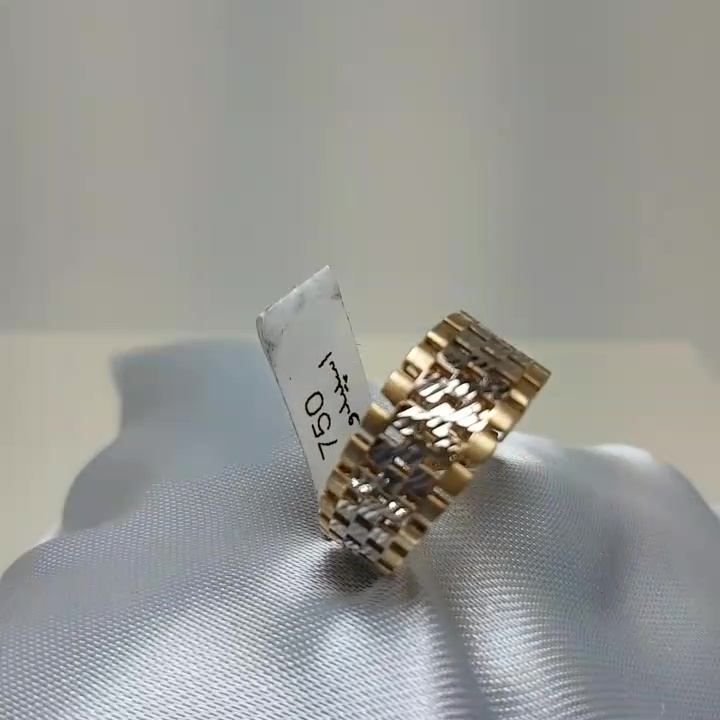Ring 1: (279, 303, 561, 575)
